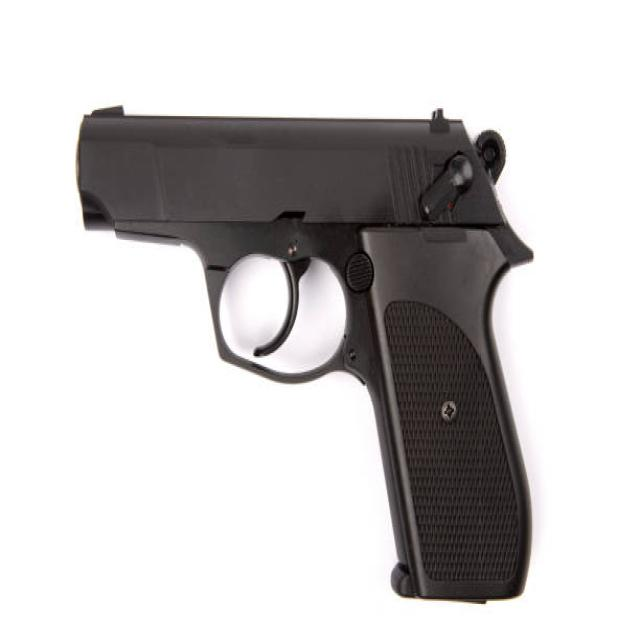pistol: (73, 108, 545, 612)
